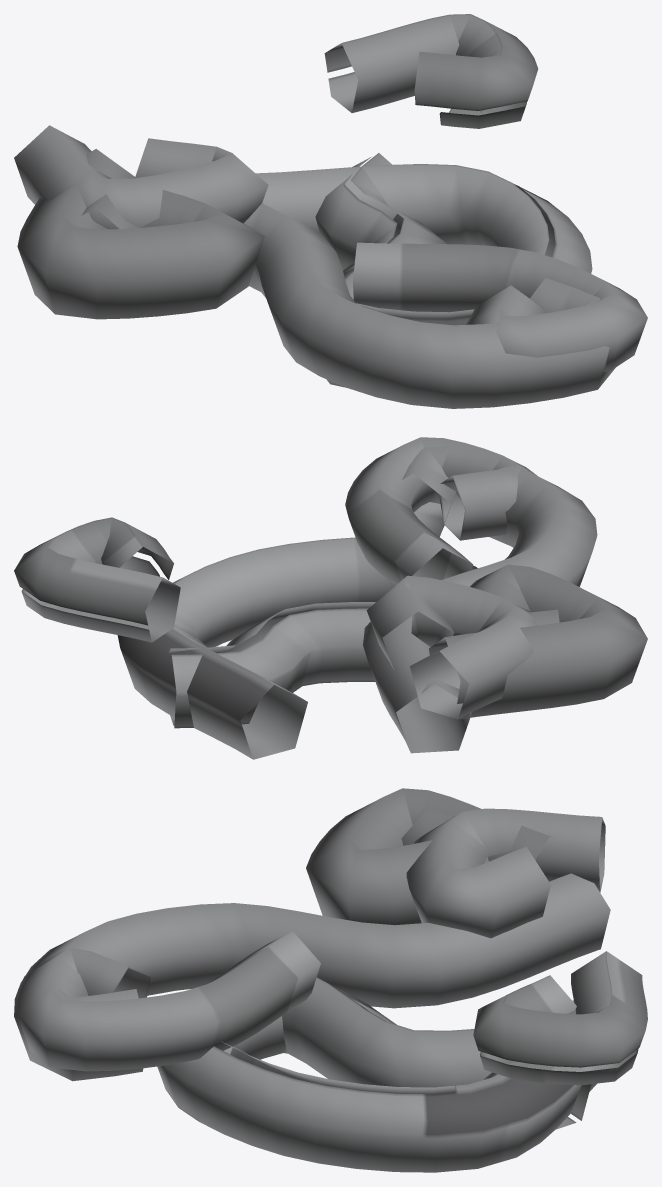
3 renders of one model, top to bottom at view 1: azimuth 30°, elevation 25°; view 2: azimuth 150°, elevation 25°; view 3: azimuth 270°, elevation 25°, orthographic. The views are drawn at different scales.
Bounding box in the file's own units: 1.22 × 0.349 × 1.18.
